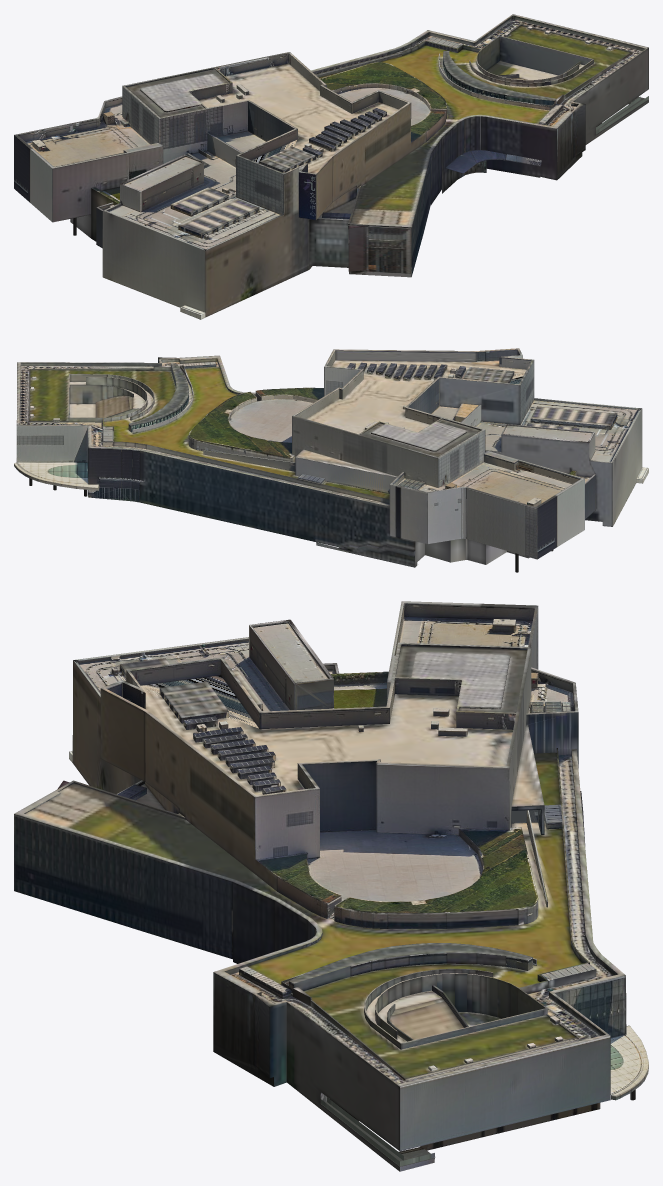
File: landmark_culture.glb
3 renders of one model, top to bottom at view 1: azimuth 30°, elevation 25°; view 2: azimuth 150°, elevation 25°; view 3: azimuth 270°, elevation 25°, orthographic. The views are drawn at different scales.
Parts seen in each view (by area): view 1: landmark_culture; view 2: landmark_culture; view 3: landmark_culture.
Boxes of the visible parts, x1,y1,x2,y2 form: landmark_culture: (14, 14, 648, 319); landmark_culture: (14, 348, 648, 572); landmark_culture: (14, 601, 648, 1171).
Size of the model in its own units: 12.88 by 2.21 by 7.7.
Materials: 1 (1 with a texture image).
